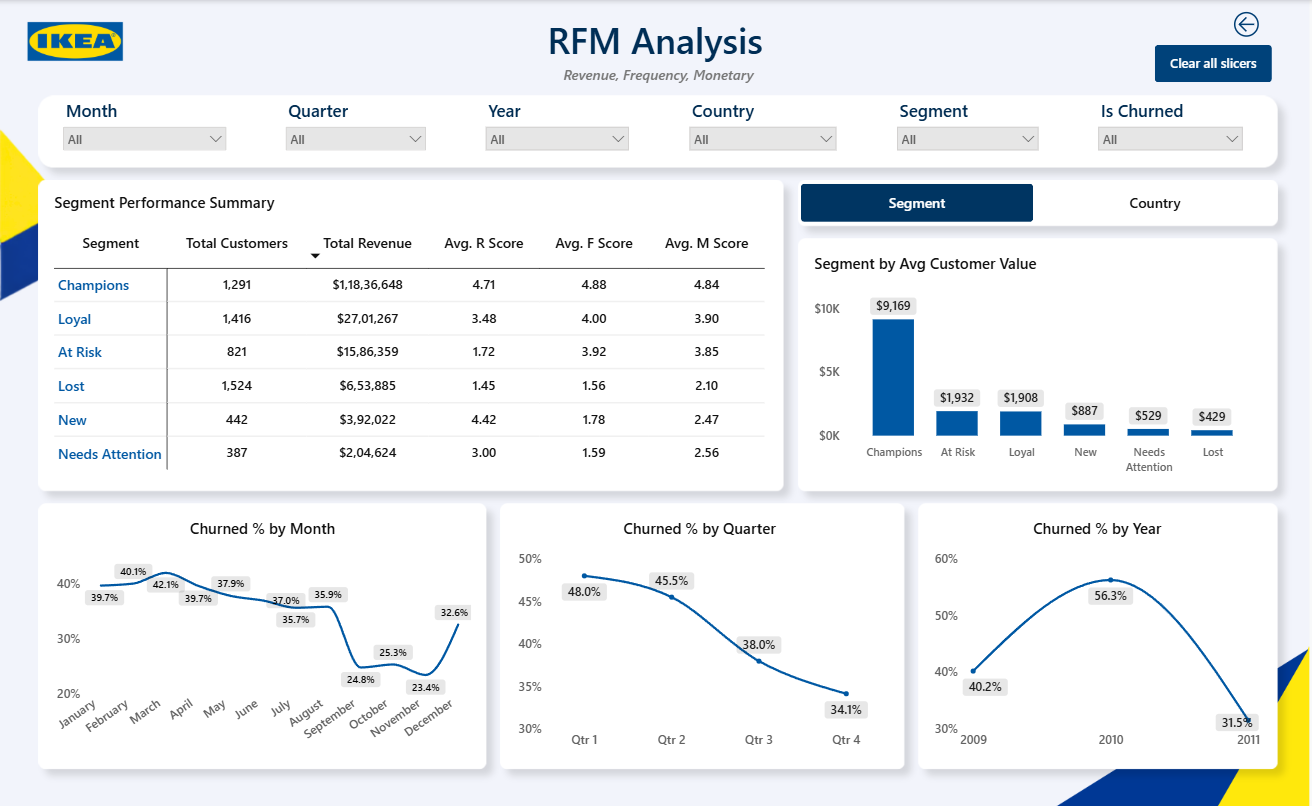

This screenshot's page, from the dashboard's own definition file:
{"tool":"powerbi","page":{"name":"RFM Analysis","canvas":[1920,1080],"ordinal":2},"visuals":[{"type":"slicer","title":"Month","fields":{"Values":["Sheet1.InvoiceDate.Variation.Date Hierarchy.Month"]},"box":[164.7,132.2,227,82.3],"z":0},{"type":"columnChart","title":"Segment by Avg Customer Value ","fields":{"Category":["Sheet1.Segment"],"Y":["01_Measures.Avg Customer Value"]},"box":[1157.7,323.9,627.6,327.6],"z":0,"group":"g1"},{"type":"slicer","title":"Month","fields":{"Values":["Sheet1.InvoiceDate.Variation.Date Hierarchy.Quarter"]},"box":[462.7,132.5,196.9,103.1],"z":1000},{"type":"pivotTable","title":"Segment Performance Summary","fields":{"Rows":["Sheet1.Segment"],"Values":["01_Measures.Total Customers","01_Measures.Total Revenue","Avg(Sheet1.R_Score)","Avg(Sheet1.F_Score)","Avg(Sheet1.M_Score)"]},"box":[142.7,242,983.8,410.8],"z":1000,"group":"g1"},{"type":"lineChart","fields":{"Category":["Sheet1.InvoiceDate.Variation.Date Hierarchy.Year"],"Y":["01_Measures.Churned %"]},"box":[1317.8,677.3,467.5,342.3],"z":2000},{"type":"slicer","title":"Month","fields":{"Values":["Sheet1.InvoiceDate.Variation.Date Hierarchy.Year"]},"box":[730.3,132.5,200.6,103.1],"z":3000},{"type":"slicer","title":"Month","fields":{"Values":["Sheet1.Country"]},"box":[1001.6,132.5,206.1,103.1],"z":4000},{"type":"slicer","title":"Month","fields":{"Values":["Sheet1.Segment"]},"box":[1278.4,132.5,198.8,103.1],"z":5000},{"type":"slicer","title":"Month","fields":{"Values":["Sheet1.IsChurned"]},"box":[1547.9,132.5,202.5,103.1],"z":6000},{"type":"actionButton","box":[1628.8,60.7,156.4,49.7],"z":7000},{"type":"image","box":[93.9,0,184.1,110.4],"z":8000},{"type":"textbox","box":[702.3,20.2,515.3,66.3],"z":9000},{"type":"textbox","box":[784.1,86.5,360.7,38.7],"z":10000},{"type":"actionButton","box":[1702.5,9.2,93.9,44.2],"z":11000},{"type":"bookmarkNavigator","box":[1155.8,244.8,629.5,51.5],"z":13000},{"type":"lineChart","fields":{"Category":["Sheet1.InvoiceDate.Variation.Date Hierarchy.Quarter"],"Y":["01_Measures.Churned %"]},"box":[762,677.3,517.2,342.3],"z":14000},{"type":"lineChart","fields":{"Category":["Sheet1.InvoiceDate.Variation.Date Hierarchy.Month"],"Y":["01_Measures.Churned %"]},"box":[141.7,677.3,589,342.3],"z":15000},{"type":"group","id":"g1","title":"Segment","box":[142.7,242,1642.6,410.8],"z":16000}]}

Visuals, with their boxes on the page's 1920x1080 design canvas (x1, y1, x2, y2). These are canvas units, not pixel positions in the 1312x806 screenshot, which may show the page scaled, cropped or inside an application window:
"Month" slicer: [left=165, top=132, right=392, bottom=214]
"Segment by Avg Customer Value " columnChart: [left=1158, top=324, right=1785, bottom=652]
"Month" slicer: [left=463, top=132, right=660, bottom=236]
"Segment Performance Summary" pivotTable: [left=143, top=242, right=1126, bottom=653]
lineChart - Sheet1.InvoiceDate.Variation.Date Hierarchy.Year x 01_Measures.Churned %: [left=1318, top=677, right=1785, bottom=1020]
"Month" slicer: [left=730, top=132, right=931, bottom=236]
"Month" slicer: [left=1002, top=132, right=1208, bottom=236]
"Month" slicer: [left=1278, top=132, right=1477, bottom=236]
"Month" slicer: [left=1548, top=132, right=1750, bottom=236]
actionButton: [left=1629, top=61, right=1785, bottom=110]
image: [left=94, top=0, right=278, bottom=110]
textbox: [left=702, top=20, right=1218, bottom=86]
textbox: [left=784, top=86, right=1145, bottom=125]
actionButton: [left=1702, top=9, right=1796, bottom=53]
bookmarkNavigator: [left=1156, top=245, right=1785, bottom=296]
lineChart - Sheet1.InvoiceDate.Variation.Date Hierarchy.Quarter x 01_Measures.Churned %: [left=762, top=677, right=1279, bottom=1020]
lineChart - Sheet1.InvoiceDate.Variation.Date Hierarchy.Month x 01_Measures.Churned %: [left=142, top=677, right=731, bottom=1020]
"Segment" group: [left=143, top=242, right=1785, bottom=653]
